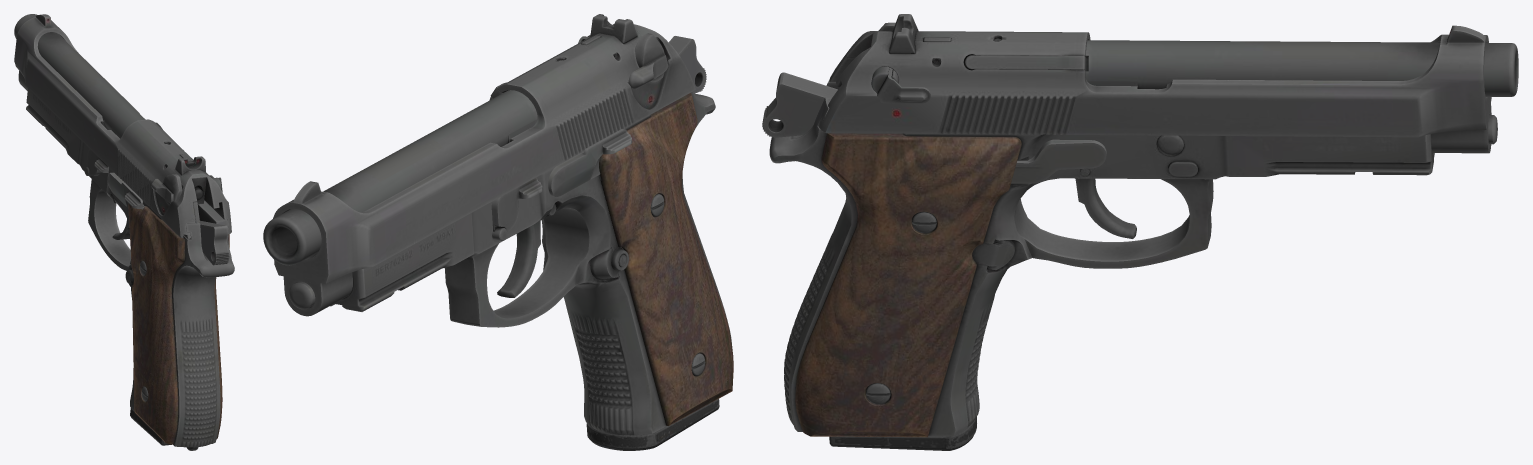
Rendered from elite_l.glb.
The picture shows the model from 3 angles, left to right: view 1: azimuth 30°, elevation 25°; view 2: azimuth 150°, elevation 25°; view 3: azimuth 270°, elevation 25°; orthographic projection. The views are drawn at different scales.
Parts seen in each view (by area): view 1: v_elite_L; view 2: v_elite_L; view 3: v_elite_L.
Part boxes in pixels (x1=…): v_elite_L: x1=14, y1=14, x2=234, y2=450; v_elite_L: x1=263, y1=14, x2=733, y2=450; v_elite_L: x1=762, y1=14, x2=1518, y2=450.
Bounding box in the file's own units: 0.0663 × 0.1711 × 0.2639.
Materials: 1 (1 with a texture image).
